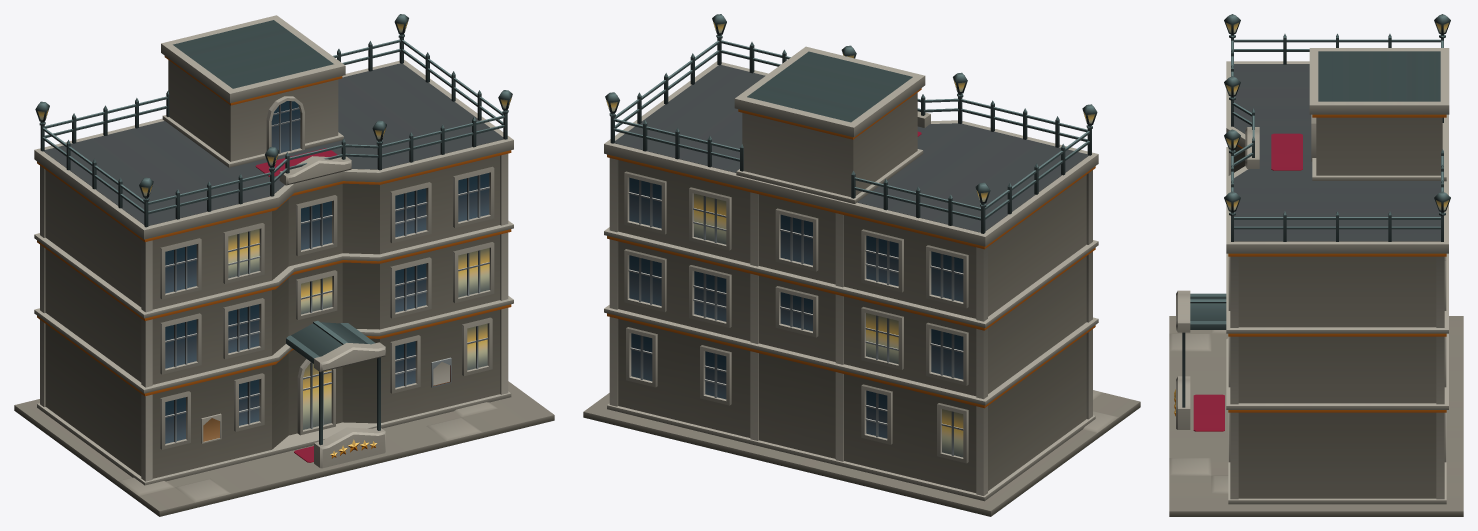
File: Building_8A.fbx
3 views of the same model, side by side, from view 1: azimuth 30°, elevation 25°; view 2: azimuth 150°, elevation 25°; view 3: azimuth 270°, elevation 25° (orthographic). The views are drawn at different scales.
Visible parts, largest first — view 1: Building_8A, Window_Lights_8A; view 2: Building_8A, Window_Lights_8A; view 3: Building_8A.
Part boxes in pixels (bbox=[...]): Building_8A: bbox=[14, 14, 554, 516]; Window_Lights_8A: bbox=[228, 229, 489, 429]; Building_8A: bbox=[583, 14, 1140, 516]; Window_Lights_8A: bbox=[694, 193, 963, 457]; Building_8A: bbox=[1169, 14, 1463, 516].
Size of the model in its own units: 22 by 18.01 by 14.
